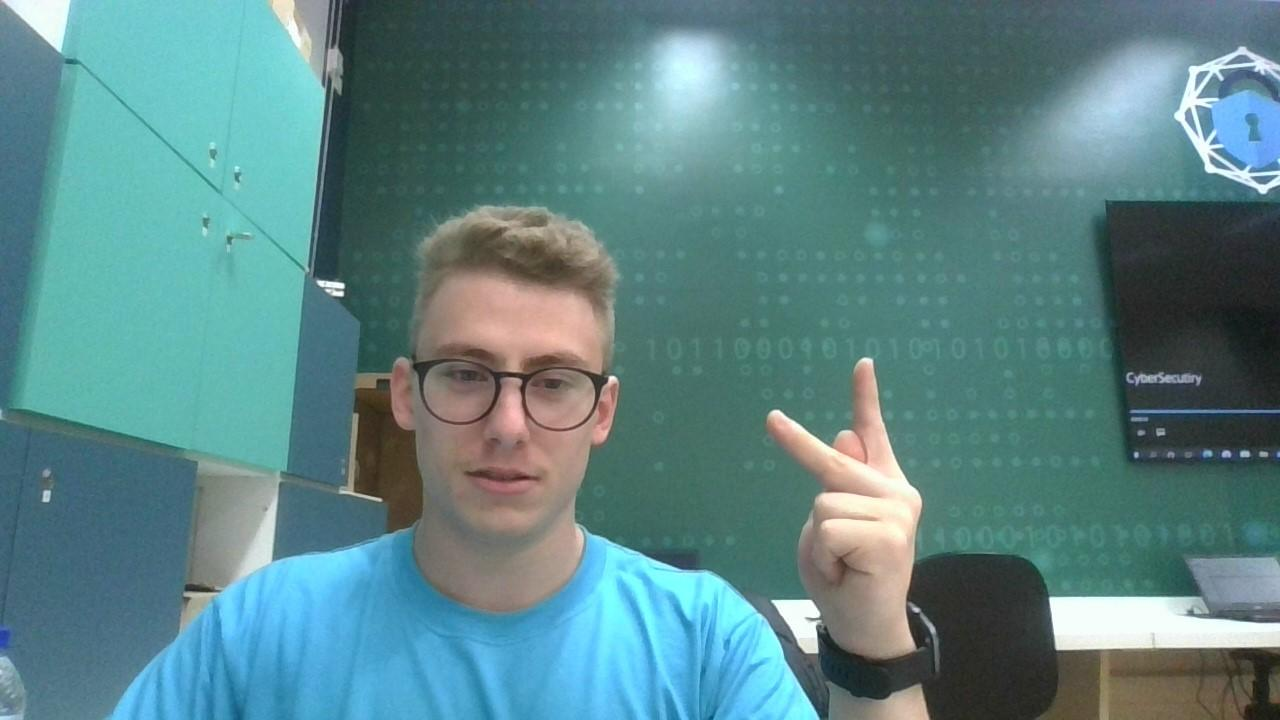K: (750, 345, 930, 620)
